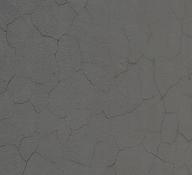fissura: (3, 5, 187, 175)
